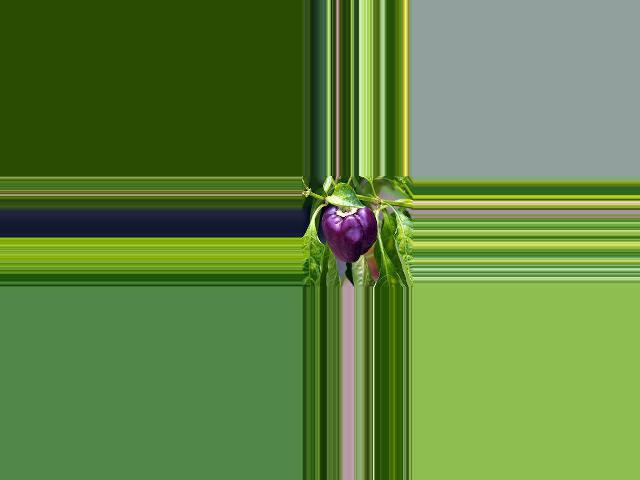bell_pepper: (322, 198, 379, 265)
